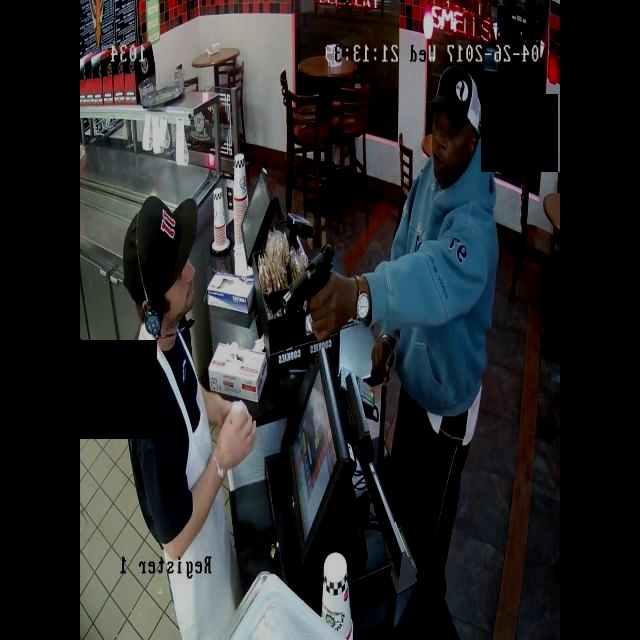gun: (271, 232, 354, 334)
